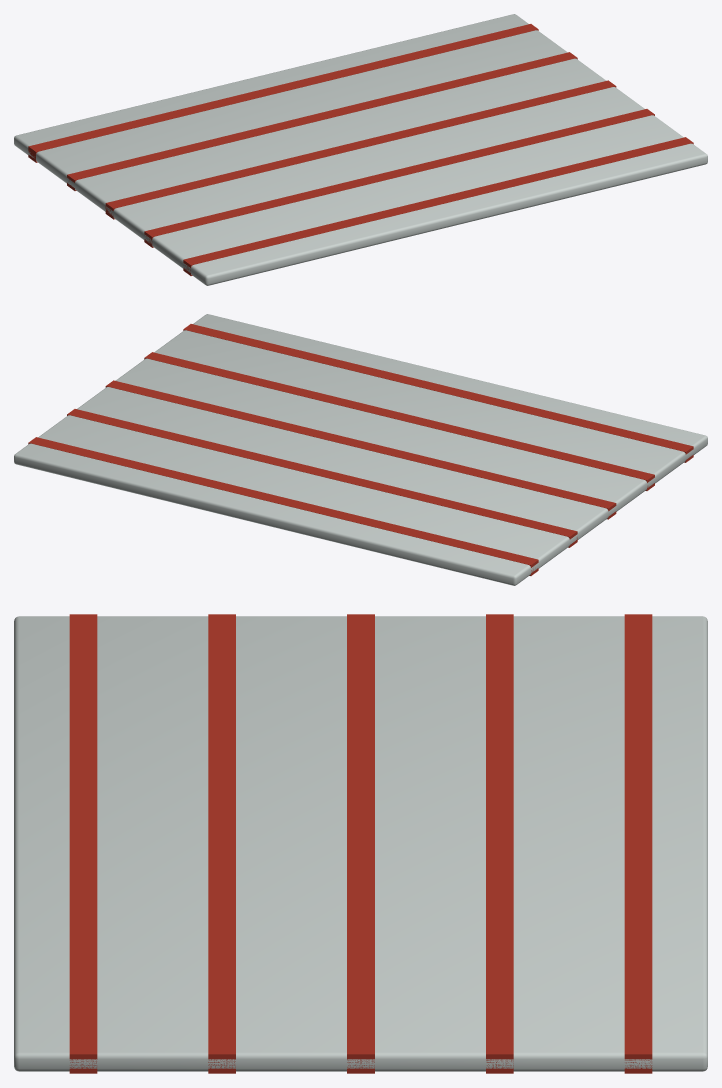
Rendered from khan_u.glb.
3 views of the same model, one above another, from view 1: azimuth 30°, elevation 25°; view 2: azimuth 150°, elevation 25°; view 3: azimuth 270°, elevation 25° (orthographic). The views are drawn at different scales.
Parts seen in each view (by area): view 1: khan_u; view 2: khan_u; view 3: khan_u.
Part boxes in pixels (left/top/right/bottom): khan_u: left=14, top=14, right=707, bottom=285; khan_u: left=14, top=314, right=707, bottom=585; khan_u: left=14, top=614, right=707, bottom=1073.
Bounding box in the file's own units: 0.3 × 0.0062 × 0.2.
